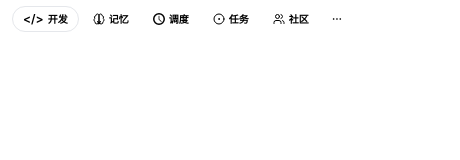
F246 AC-D2: WorkspaceTabBar responsive modes › overflow tab click → mode changes and dropdown closes
Click the button with test id "workspace-tab-overflow-btn": click(337, 19) 323,7 -> 351,31
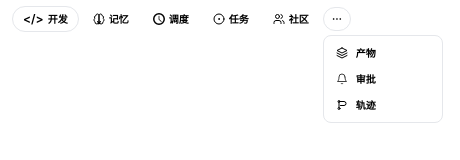
Now the element with test id "workspace-tab-overflow-menu" is shown, box 323,35 -> 443,123
Now the button "产物" is shown
Click the button "产物": click(383, 53) 324,40 -> 442,66
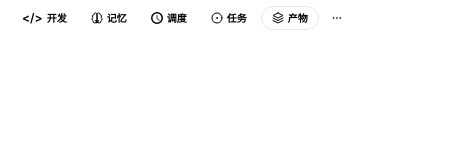
Now the element with test id "workspace-tab-overflow-menu" is gone
